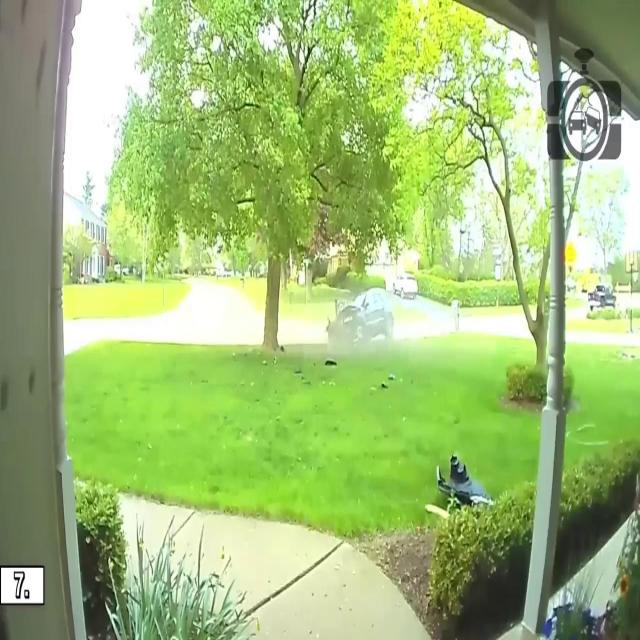accident: (325, 279, 396, 357)
